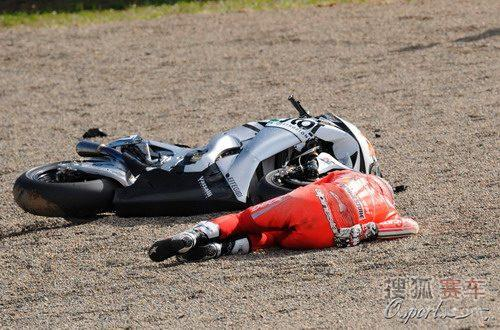fall: (146, 141, 413, 267)
